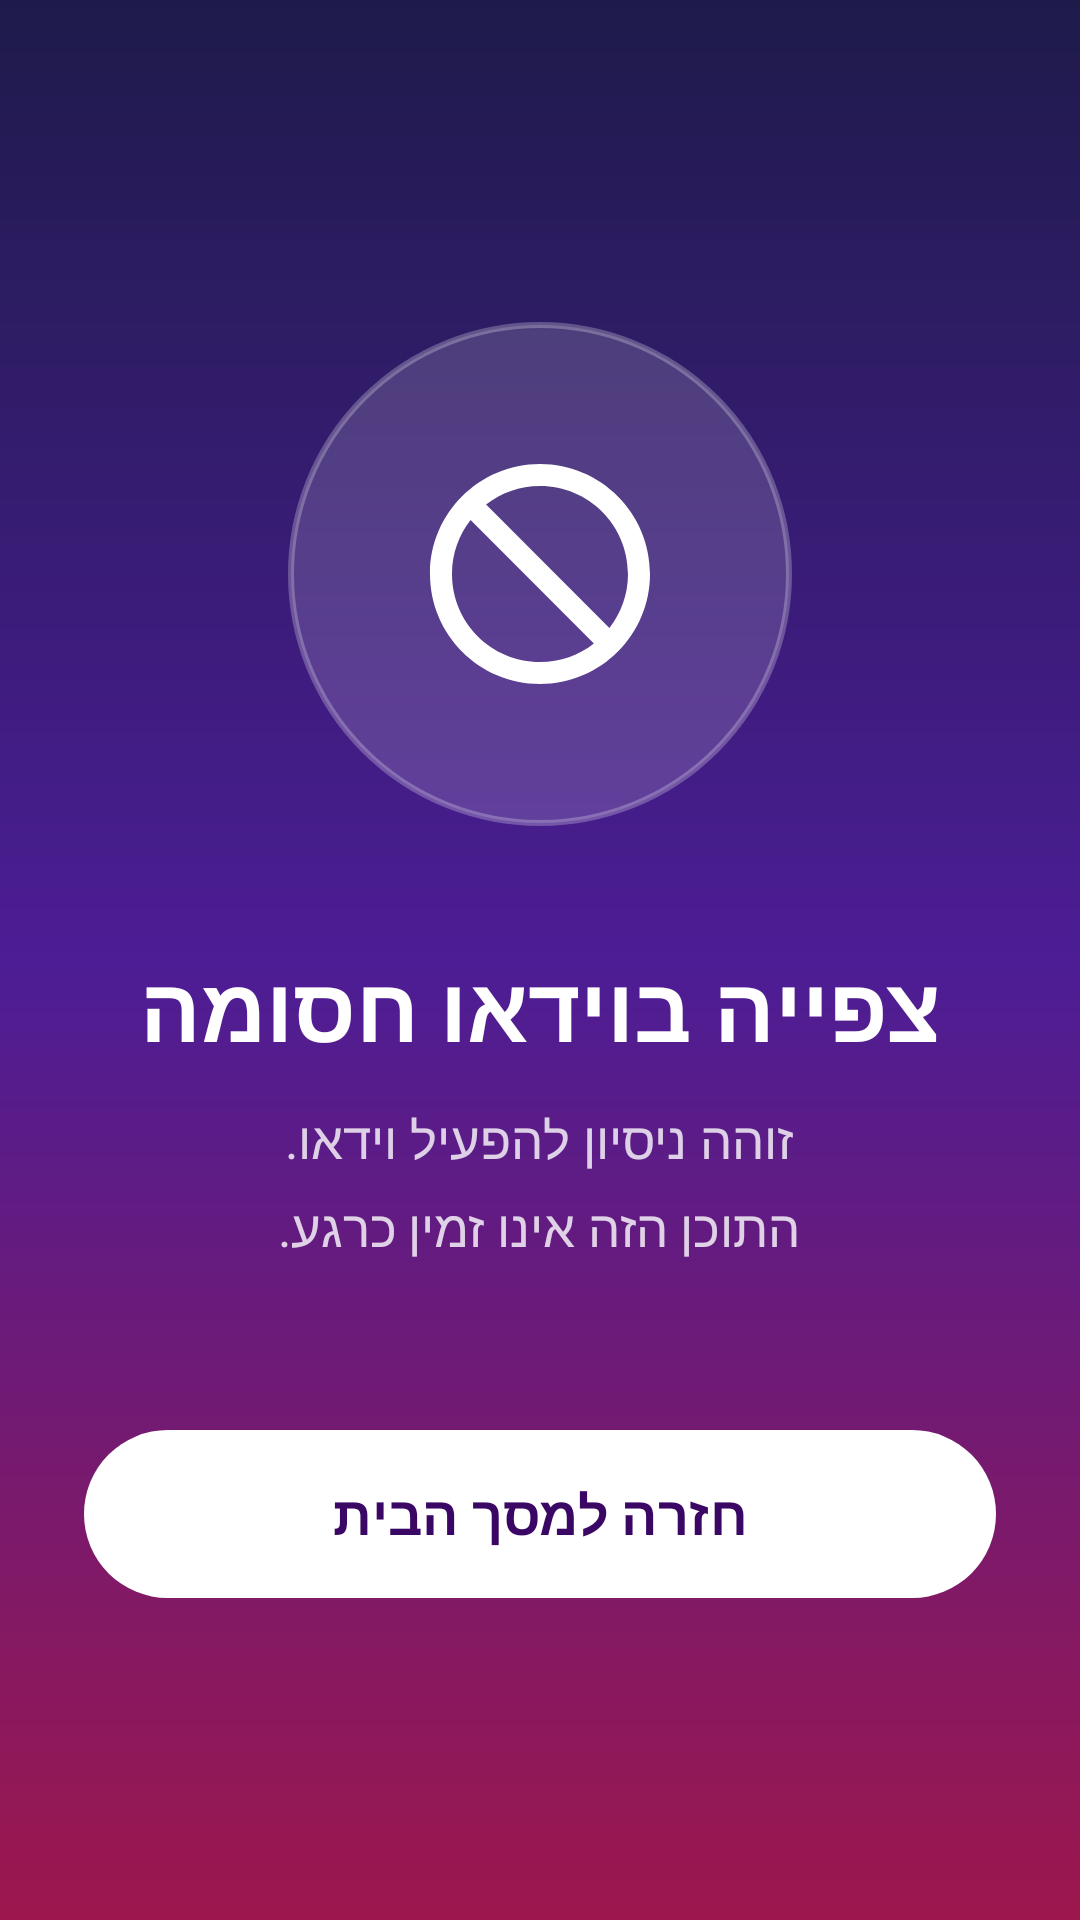

Where to tap for icons on this 1080w x 1920h app screen, as (x,y):
block: (540,574)
